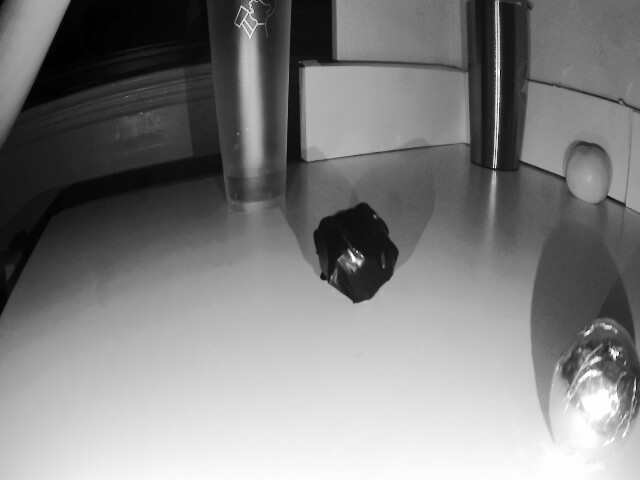black: (309, 200, 404, 303)
silver: (548, 317, 640, 463)
